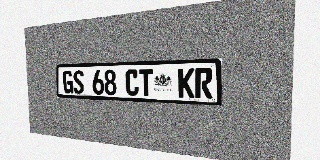6: (92, 70, 104, 95)
8: (104, 70, 117, 95)
C: (125, 69, 139, 96)
G: (63, 70, 73, 94)
K: (178, 68, 194, 98)
R: (195, 68, 213, 99)
S: (73, 70, 84, 94)
T: (139, 69, 153, 97)
